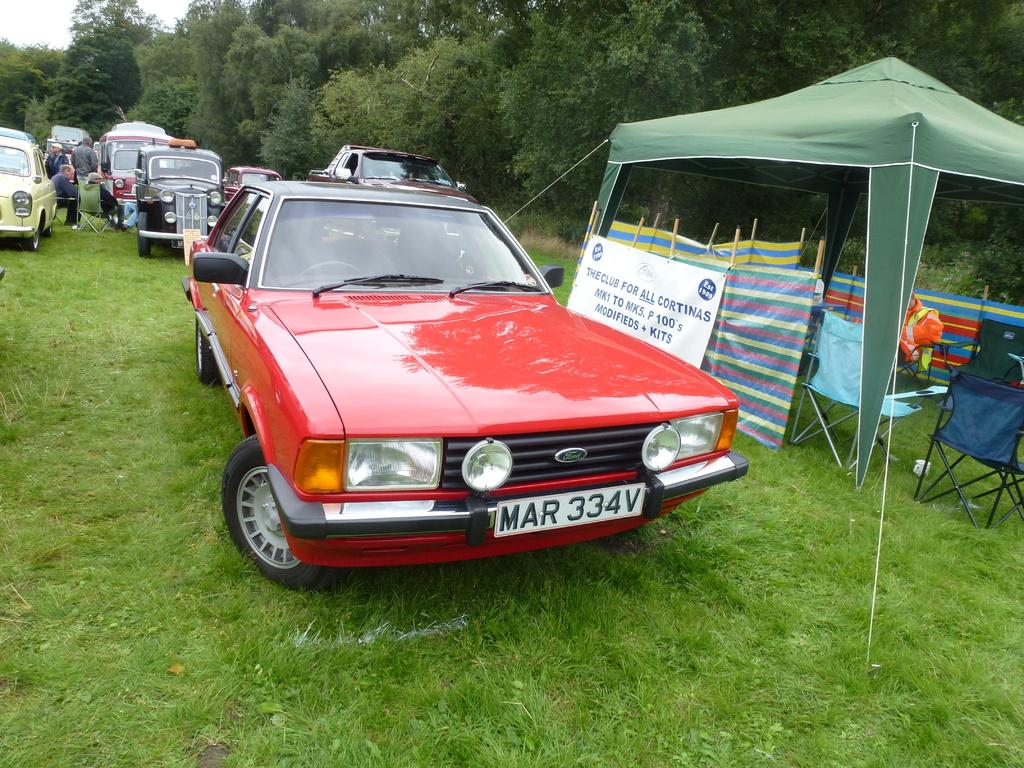Chair: (912, 367, 1023, 529)
Computer-mouse: (180, 173, 749, 591)
